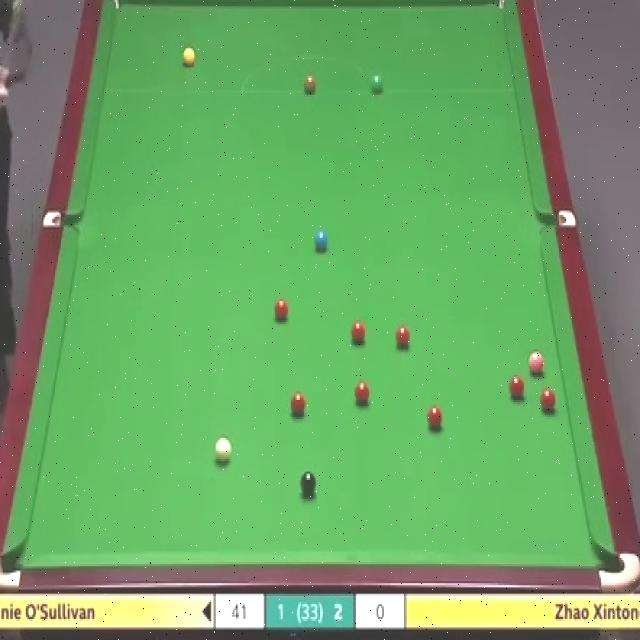black-ball: (299, 470, 318, 498)
blue-ball: (314, 227, 329, 254)
brown-ball: (303, 74, 318, 94)
green-ball: (369, 72, 385, 95)
pink-ball: (527, 352, 546, 373)
red-ball: (426, 405, 444, 434), (348, 321, 366, 345), (538, 389, 556, 412), (354, 380, 369, 407), (396, 324, 411, 350), (508, 375, 526, 396), (292, 391, 305, 415), (274, 298, 288, 320)
white-ball: (214, 436, 234, 466)
yellow-ball: (183, 48, 196, 68)
